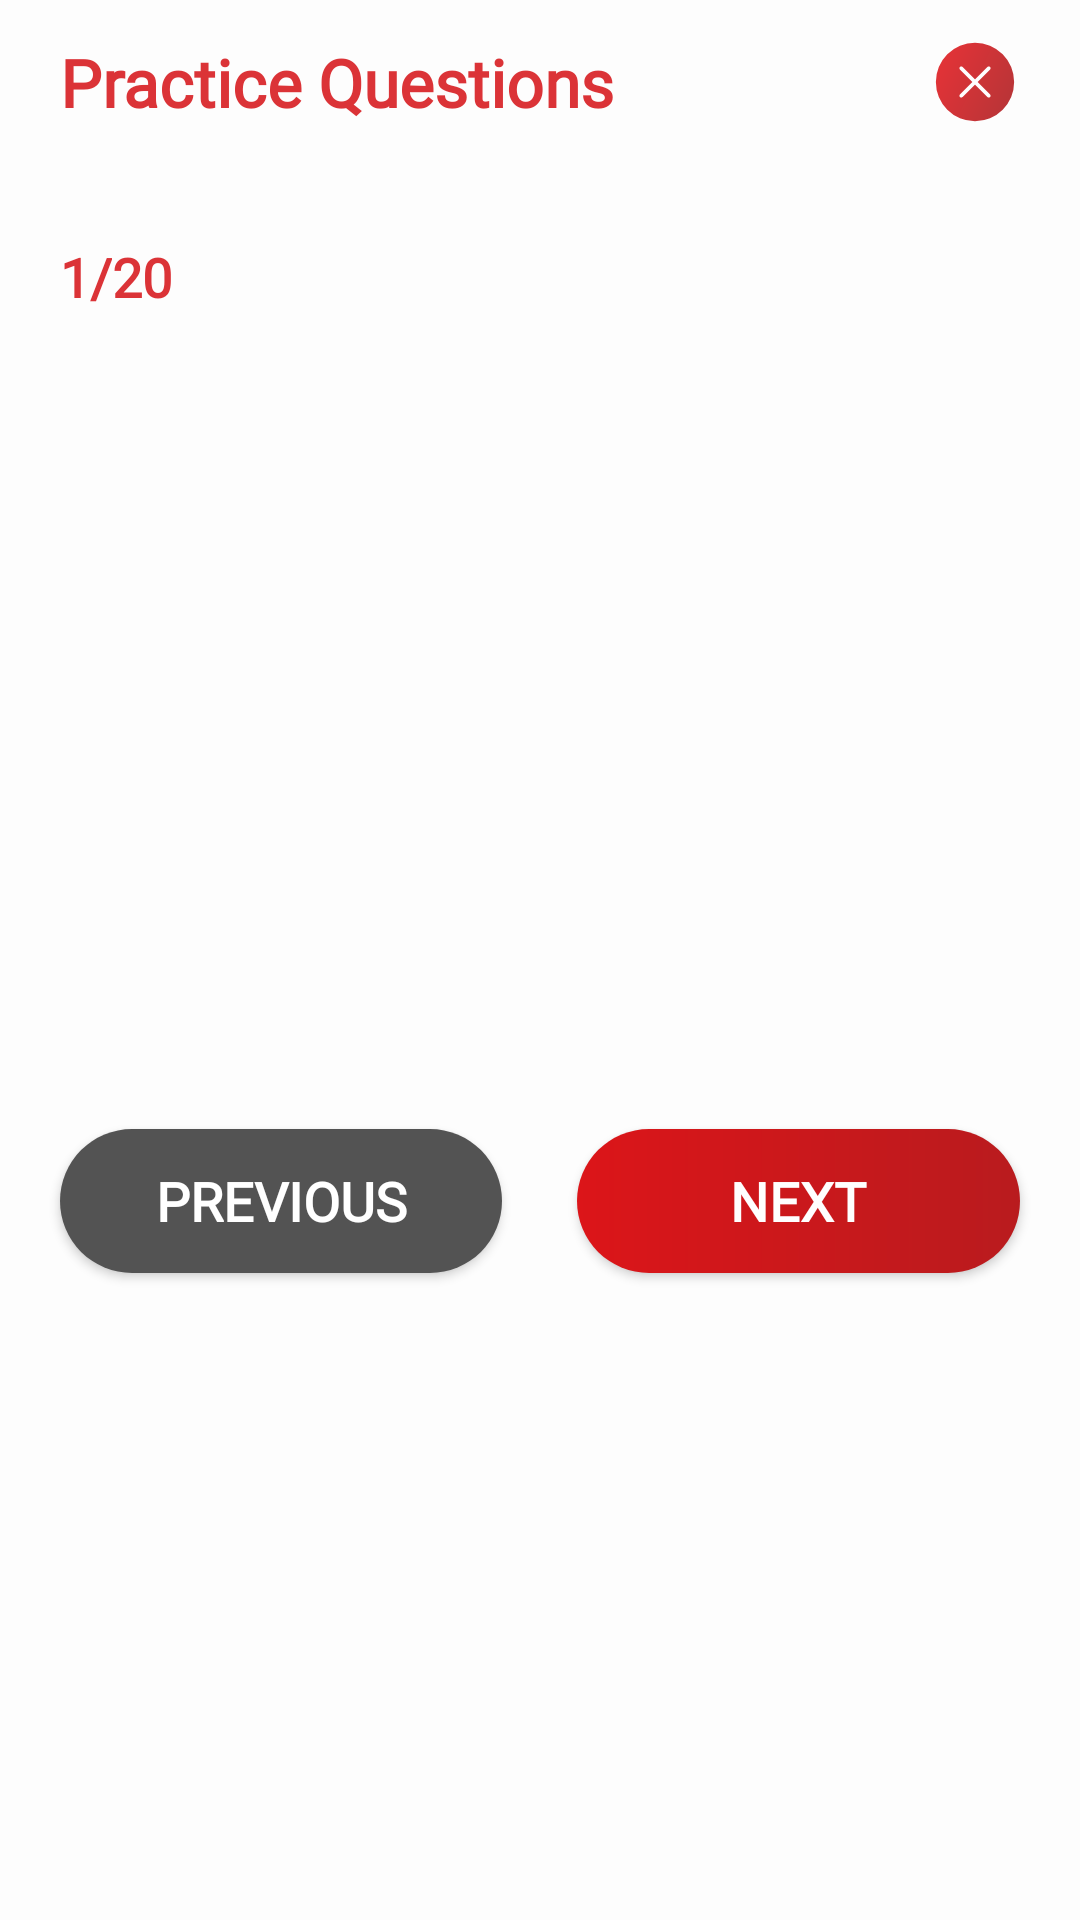

Named icons in this screenshot (1080*1920) and their bounding boxes, (x1, y1, x2, y2):
cancel: (936, 42, 1014, 122)
